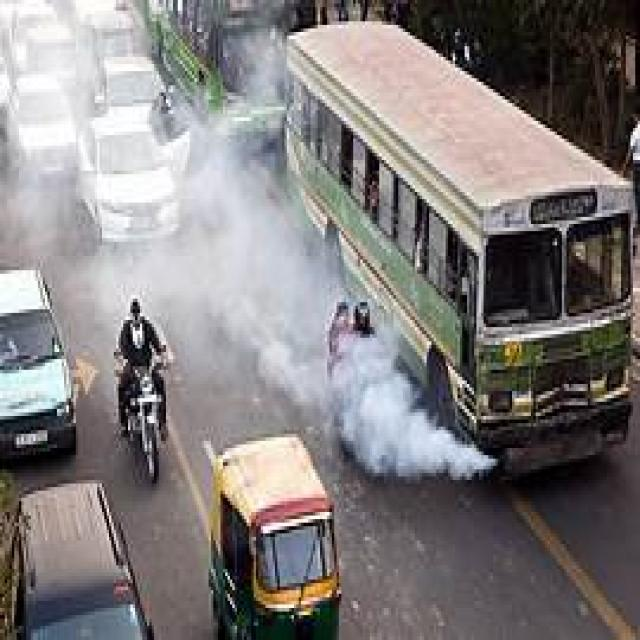Auto: (210, 435, 341, 638)
Bus: (287, 26, 631, 472), (140, 0, 314, 153)
Car: (0, 4, 190, 241), (0, 248, 105, 460), (0, 270, 76, 458)
Two Wheeler: (118, 349, 167, 483)
